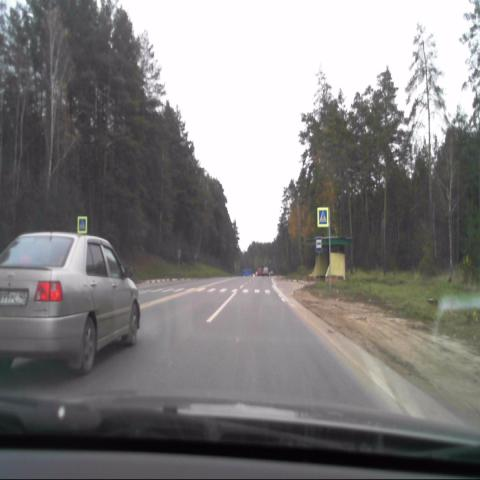5_16: (315, 237, 322, 251)
5_19_1: (317, 207, 329, 227), (77, 214, 88, 234)
